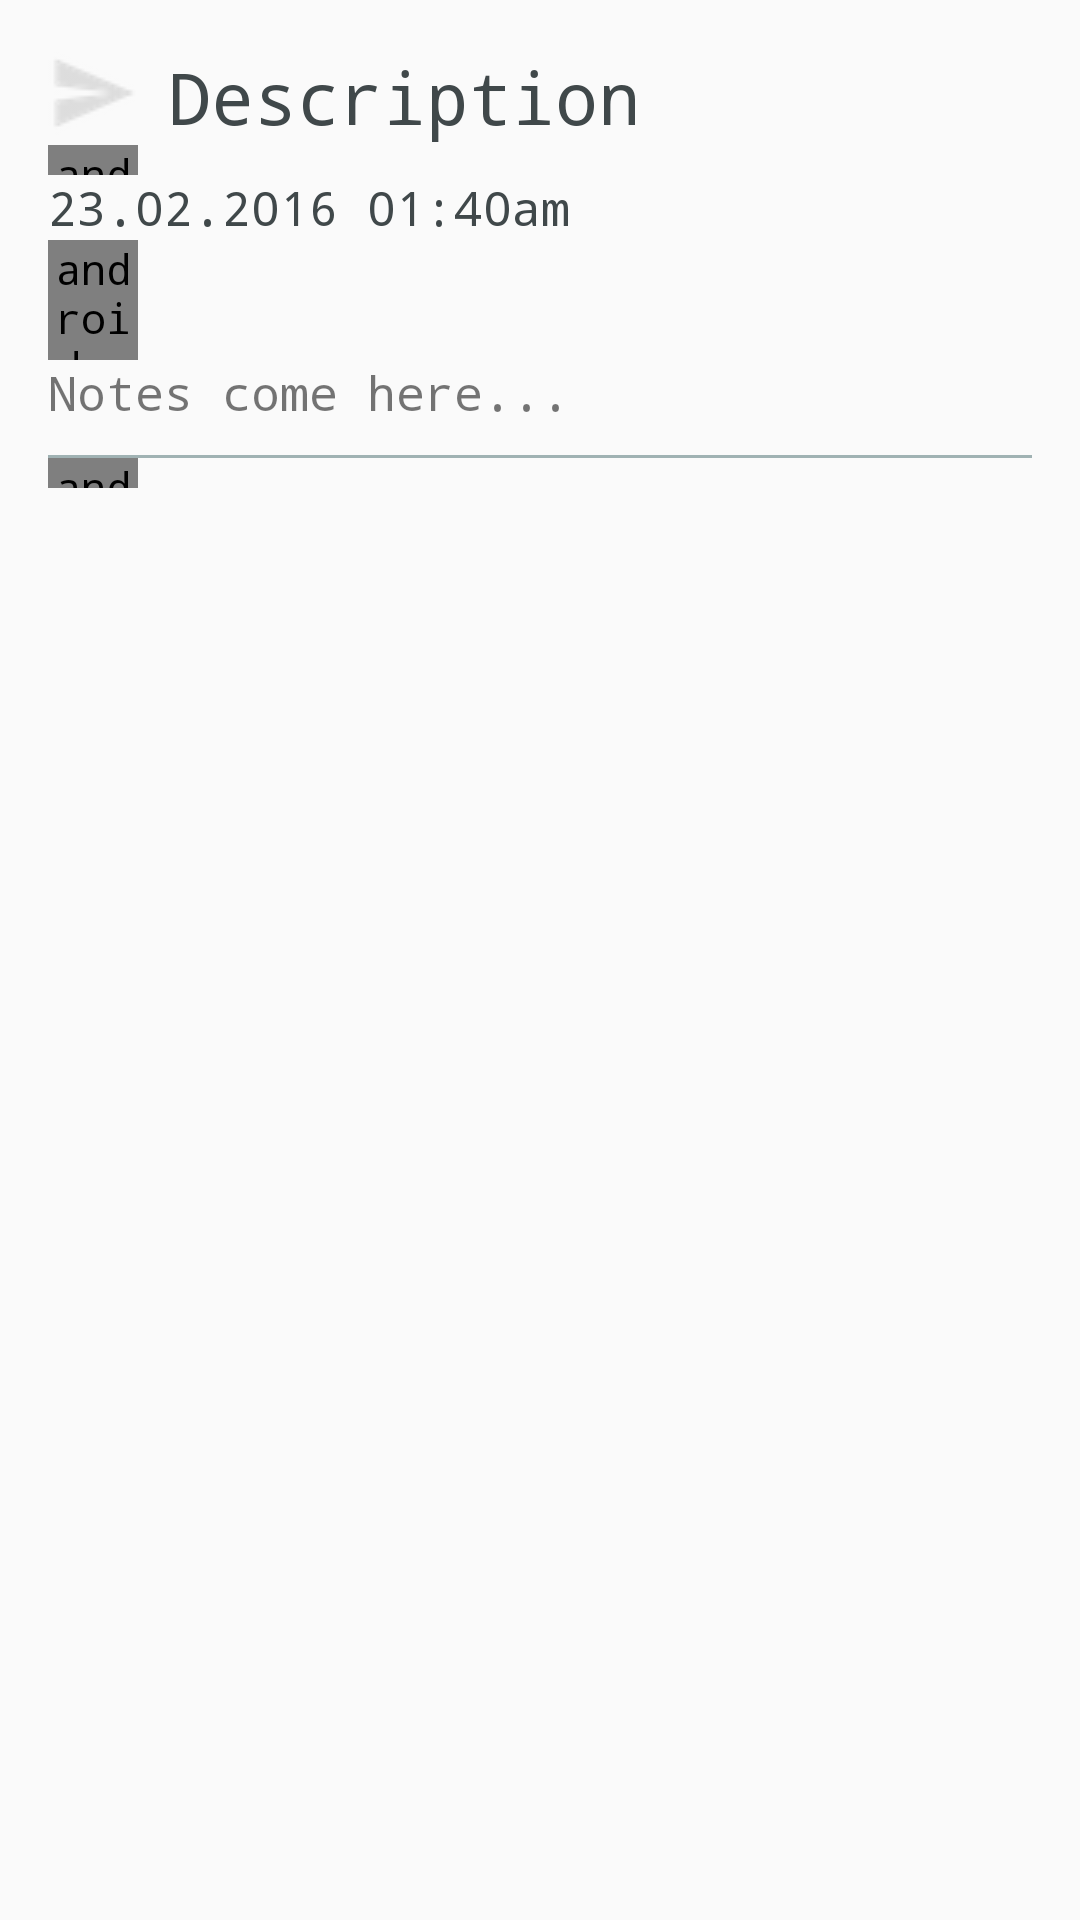

Locate icon controls on the screen. Image size 1080px x 1920px, boxes as (x1, y1, x2, y2).
delegate todo: (58, 61, 129, 125)
